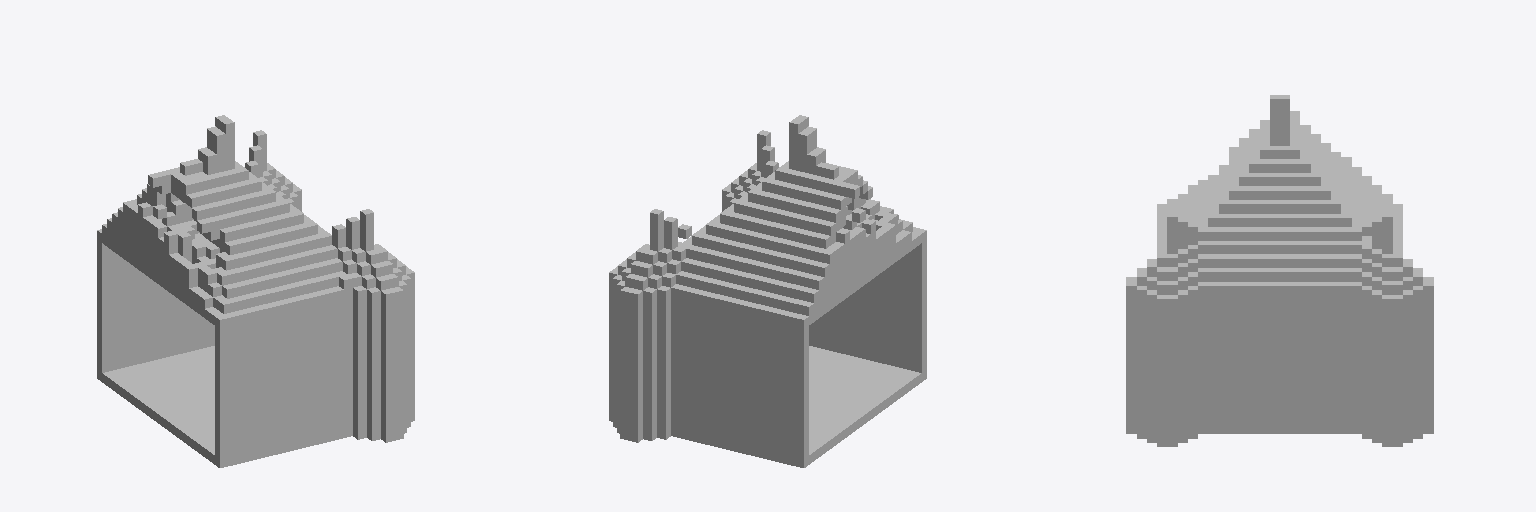
The model's file is HouseChop 1.obj.
3 views of the same model, side by side, from view 1: azimuth 30°, elevation 25°; view 2: azimuth 150°, elevation 25°; view 3: azimuth 270°, elevation 25° (orthographic).
Parts seen in each view (by area): view 1: HouseChop; view 2: HouseChop; view 3: HouseChop.
Boxes of the visible parts, x1,y1,x2,y2 form: HouseChop: [97, 115, 414, 467]; HouseChop: [609, 115, 926, 467]; HouseChop: [1126, 95, 1433, 446].
Size of the model in its own units: 22 by 31 by 30.